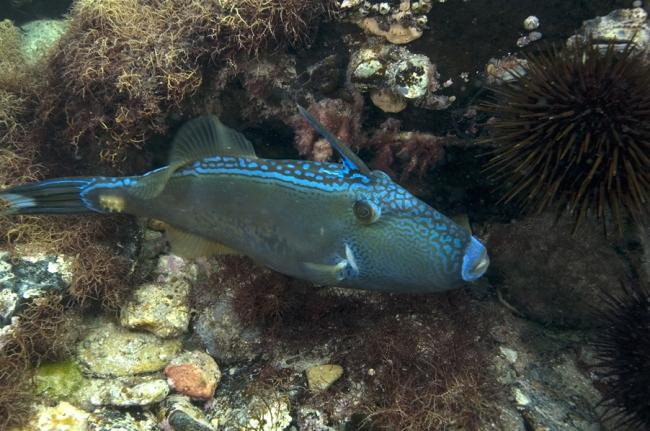fish: (5, 103, 489, 295)
